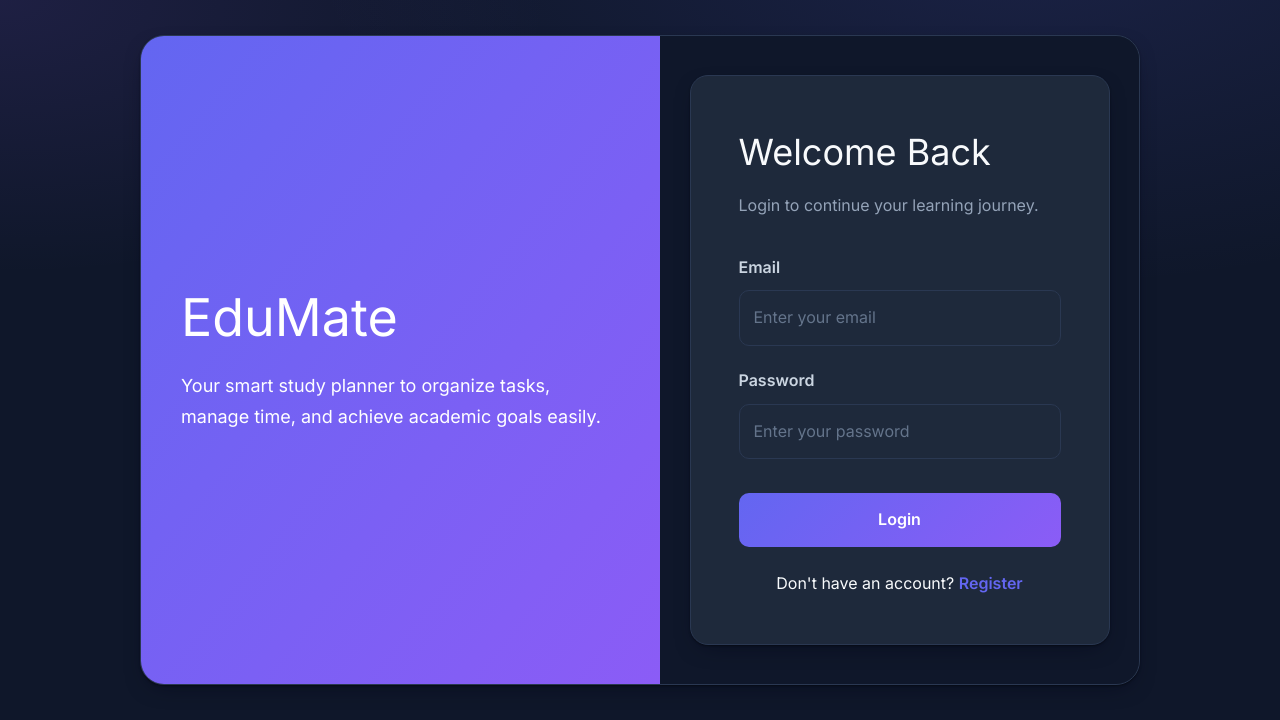
Test: Form Validation › login form shows error on empty submit
This screenshot has width=1280, height=720.
Click the button "Login" at point(900, 520), box [738,493,1060,547]
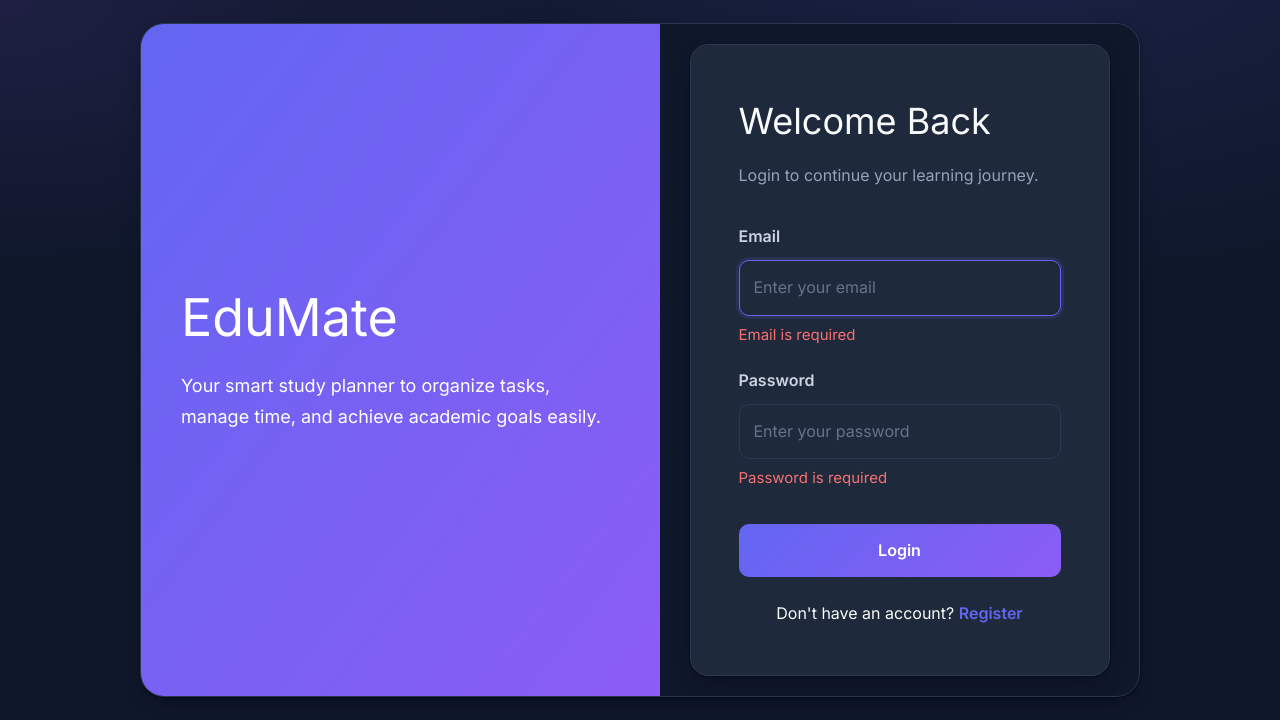
Check: the text "Email is required" is shown, box [738,324,856,344]
